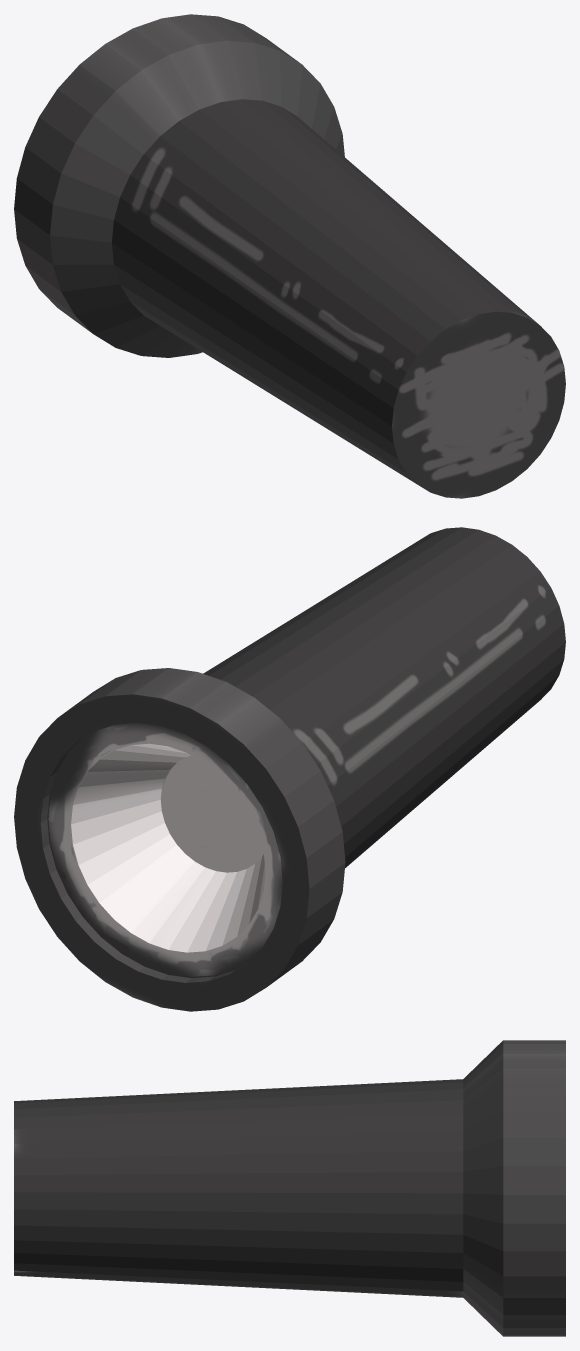
The model's file is denpin.glb.
3 views of the same model, one above another, from view 1: azimuth 30°, elevation 25°; view 2: azimuth 150°, elevation 25°; view 3: azimuth 270°, elevation 25° (orthographic). The views are drawn at different scales.
Visible parts, largest first — view 1: Cylinder; view 2: Cylinder; view 3: Cylinder.
Part boxes in pixels (x1,y1,x2,y2): Cylinder: (14,14,565,498); Cylinder: (14,527,565,1011); Cylinder: (14,1040,565,1336).
Bounding box in the file's own units: 0.4478 × 0.4478 × 0.8327.
1 material, 1 textured.
